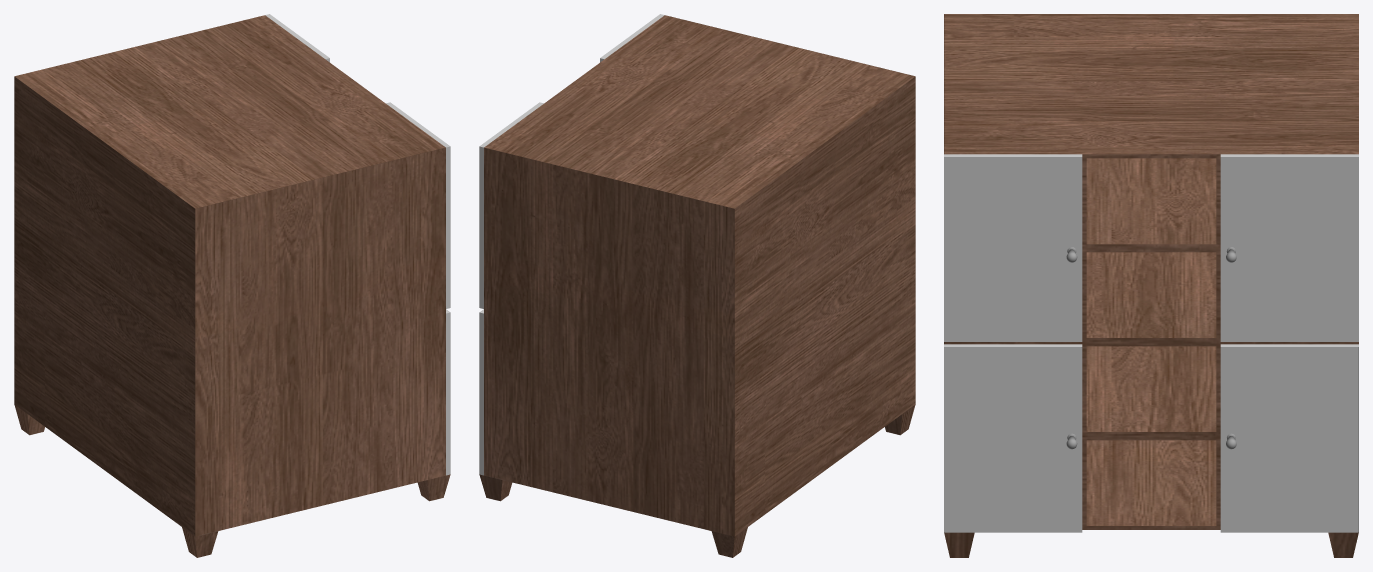
File: ShelfDB2.fbx
3 views of the same model, side by side, from view 1: azimuth 30°, elevation 25°; view 2: azimuth 150°, elevation 25°; view 3: azimuth 270°, elevation 25° (orthographic). The views are drawn at different scales.
Parts seen in each view (by area): view 1: Cube.018; view 2: Cube.018; view 3: Cube.018.
Boxes of the visible parts, x1=… form: Cube.018: x1=14, y1=14, x2=450, y2=557; Cube.018: x1=479, y1=14, x2=915, y2=557; Cube.018: x1=944, y1=14, x2=1358, y2=557.
Bounding box in the file's own units: 43.15 × 53.69 × 50.
2 materials, 1 textured.
